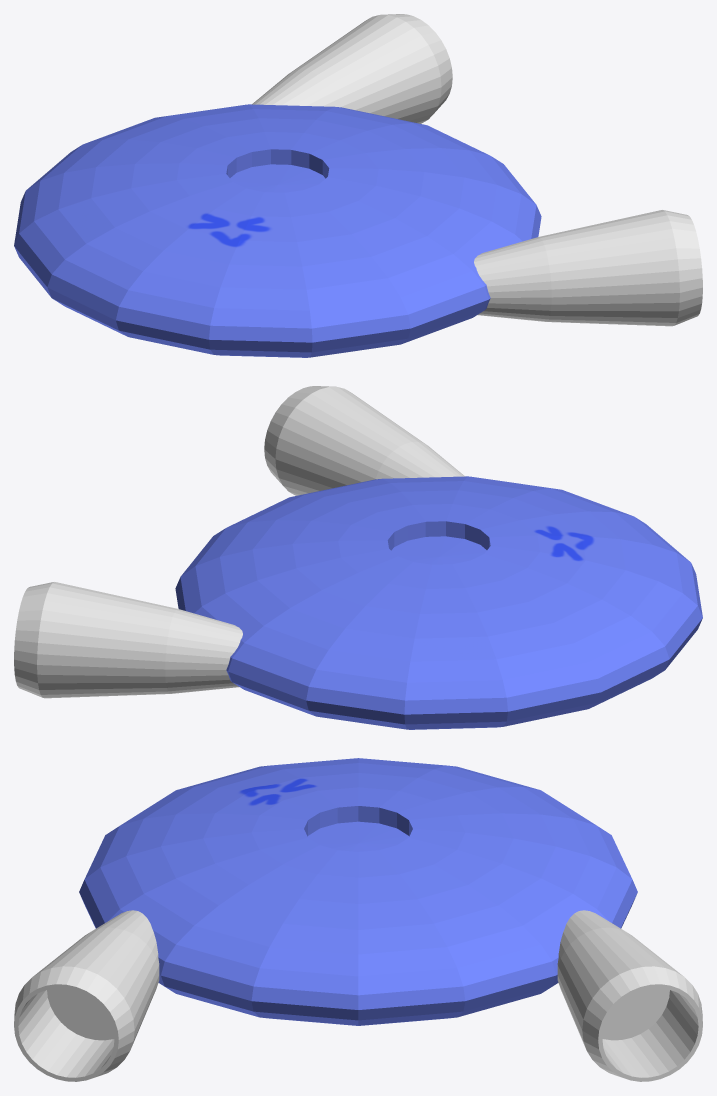
File: ship1.fbx
3 views of the same model, one above another, from view 1: azimuth 30°, elevation 25°; view 2: azimuth 150°, elevation 25°; view 3: azimuth 270°, elevation 25° (orthographic). The views are drawn at different scales.
Visible parts, largest first — view 1: 구체, 원형; view 2: 구체, 원형; view 3: 구체, 원형.
Boxes of the visible parts, x1,y1,x2,y2 form: 구체: [14, 104, 541, 357]; 원형: [252, 14, 702, 326]; 구체: [175, 476, 702, 729]; 원형: [14, 386, 464, 698]; 구체: [79, 758, 637, 1025]; 원형: [14, 910, 702, 1081].
Size of the model in its own units: 225 by 50.38 by 247.
1 material, 1 textured.
